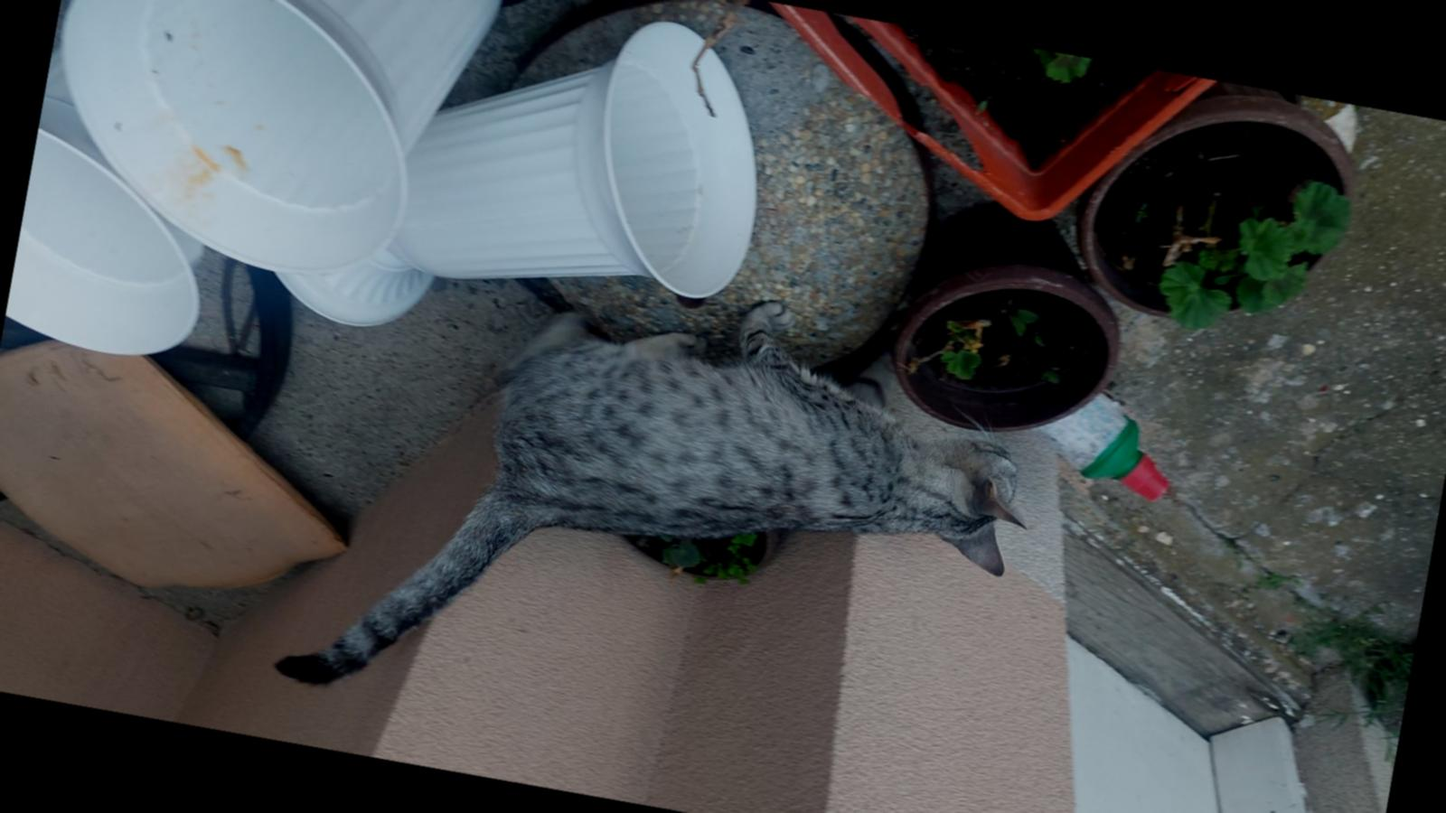macka: (273, 224, 1060, 807)
